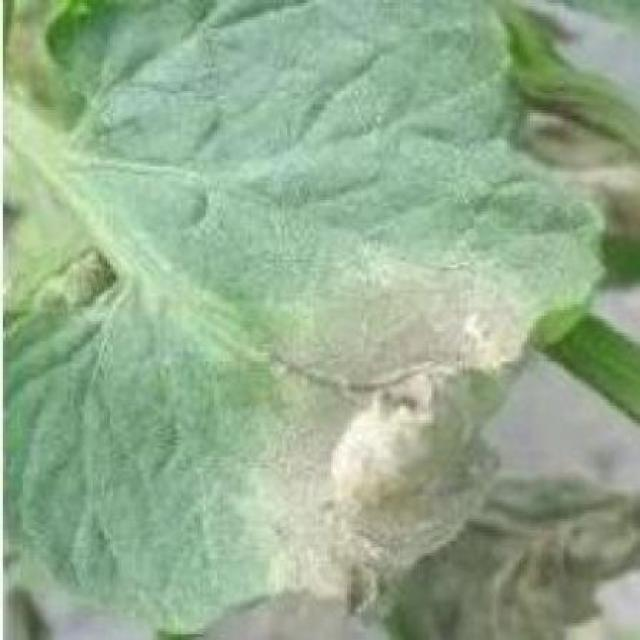Late Blight: (8, 0, 608, 640)
